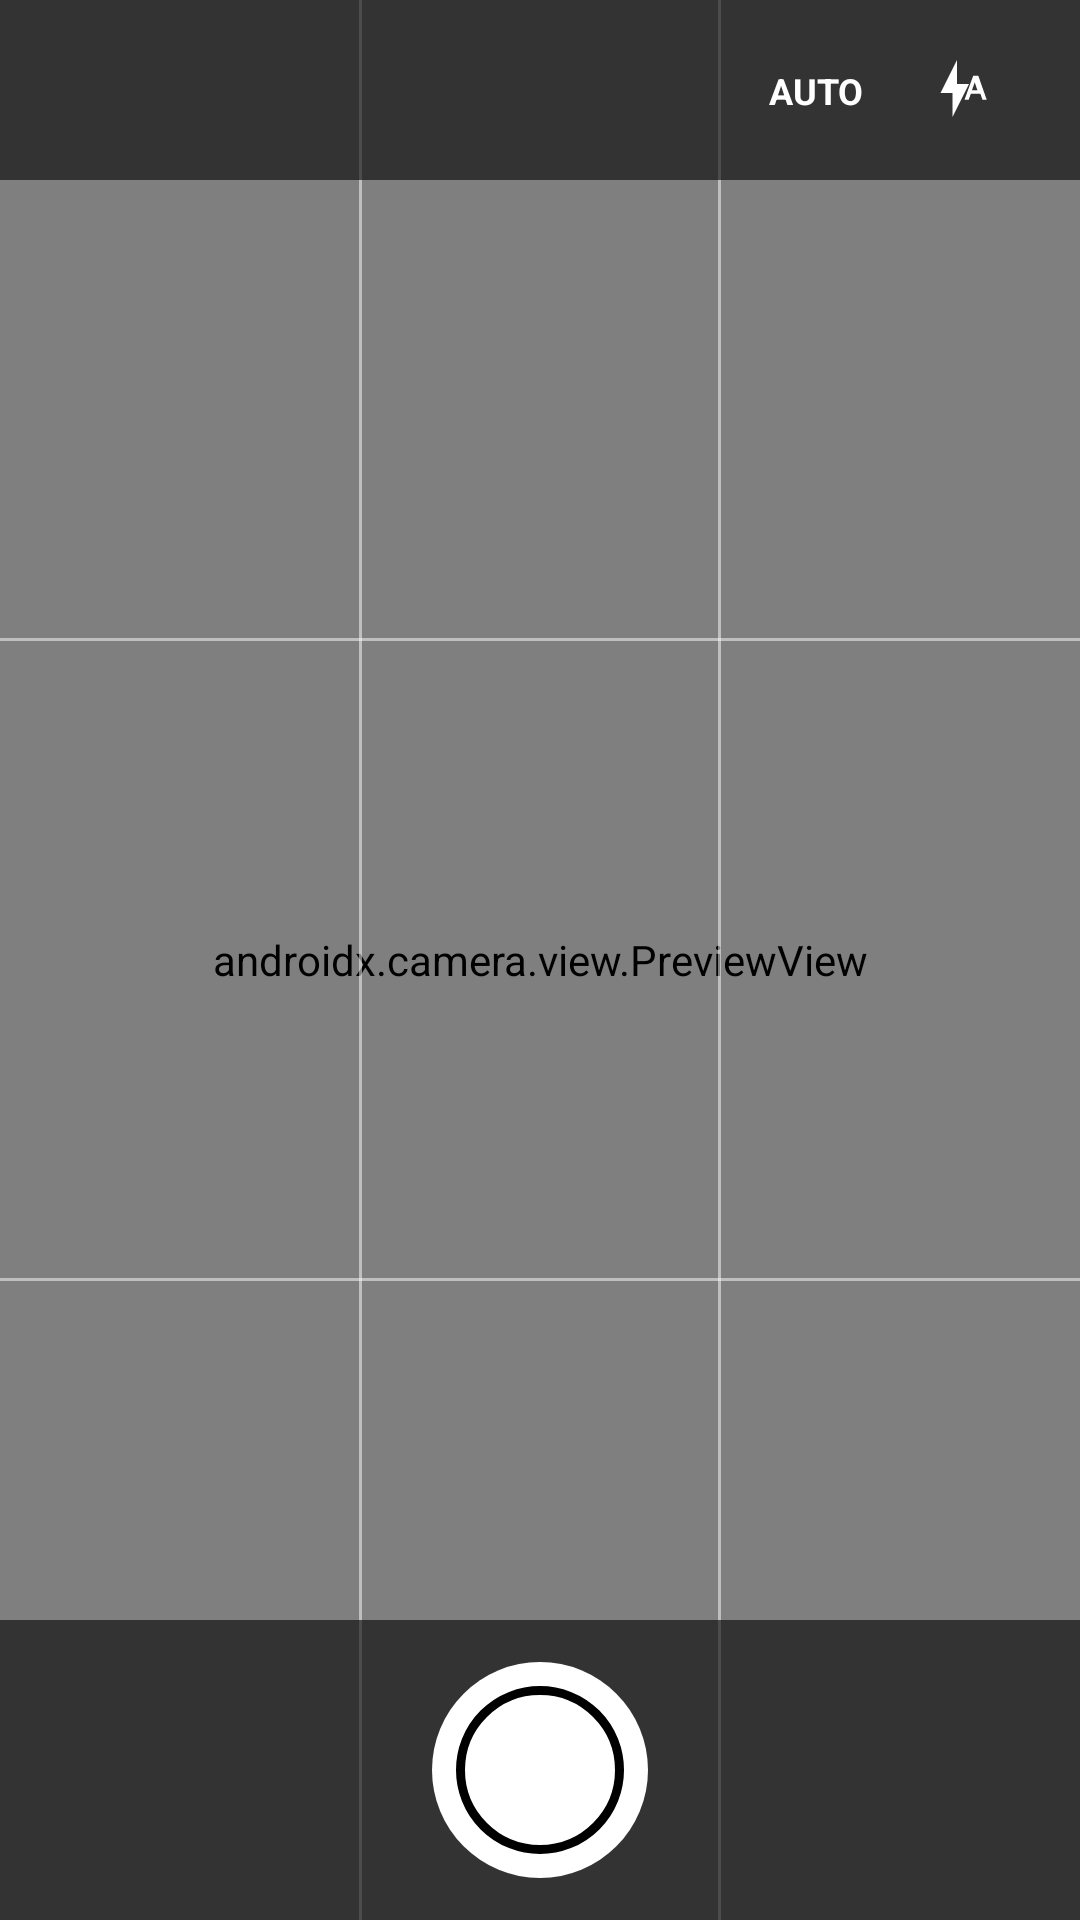

Where icons sit on this 1080w x 1920h app screen, as [left=x1, top=y1, right=x2, bottom=y2]:
Control de Flash: [left=940, top=60, right=987, bottom=117]
